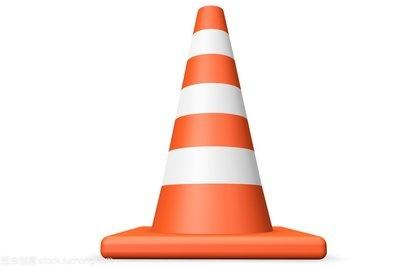cone_barrel: (132, 5, 281, 240)
